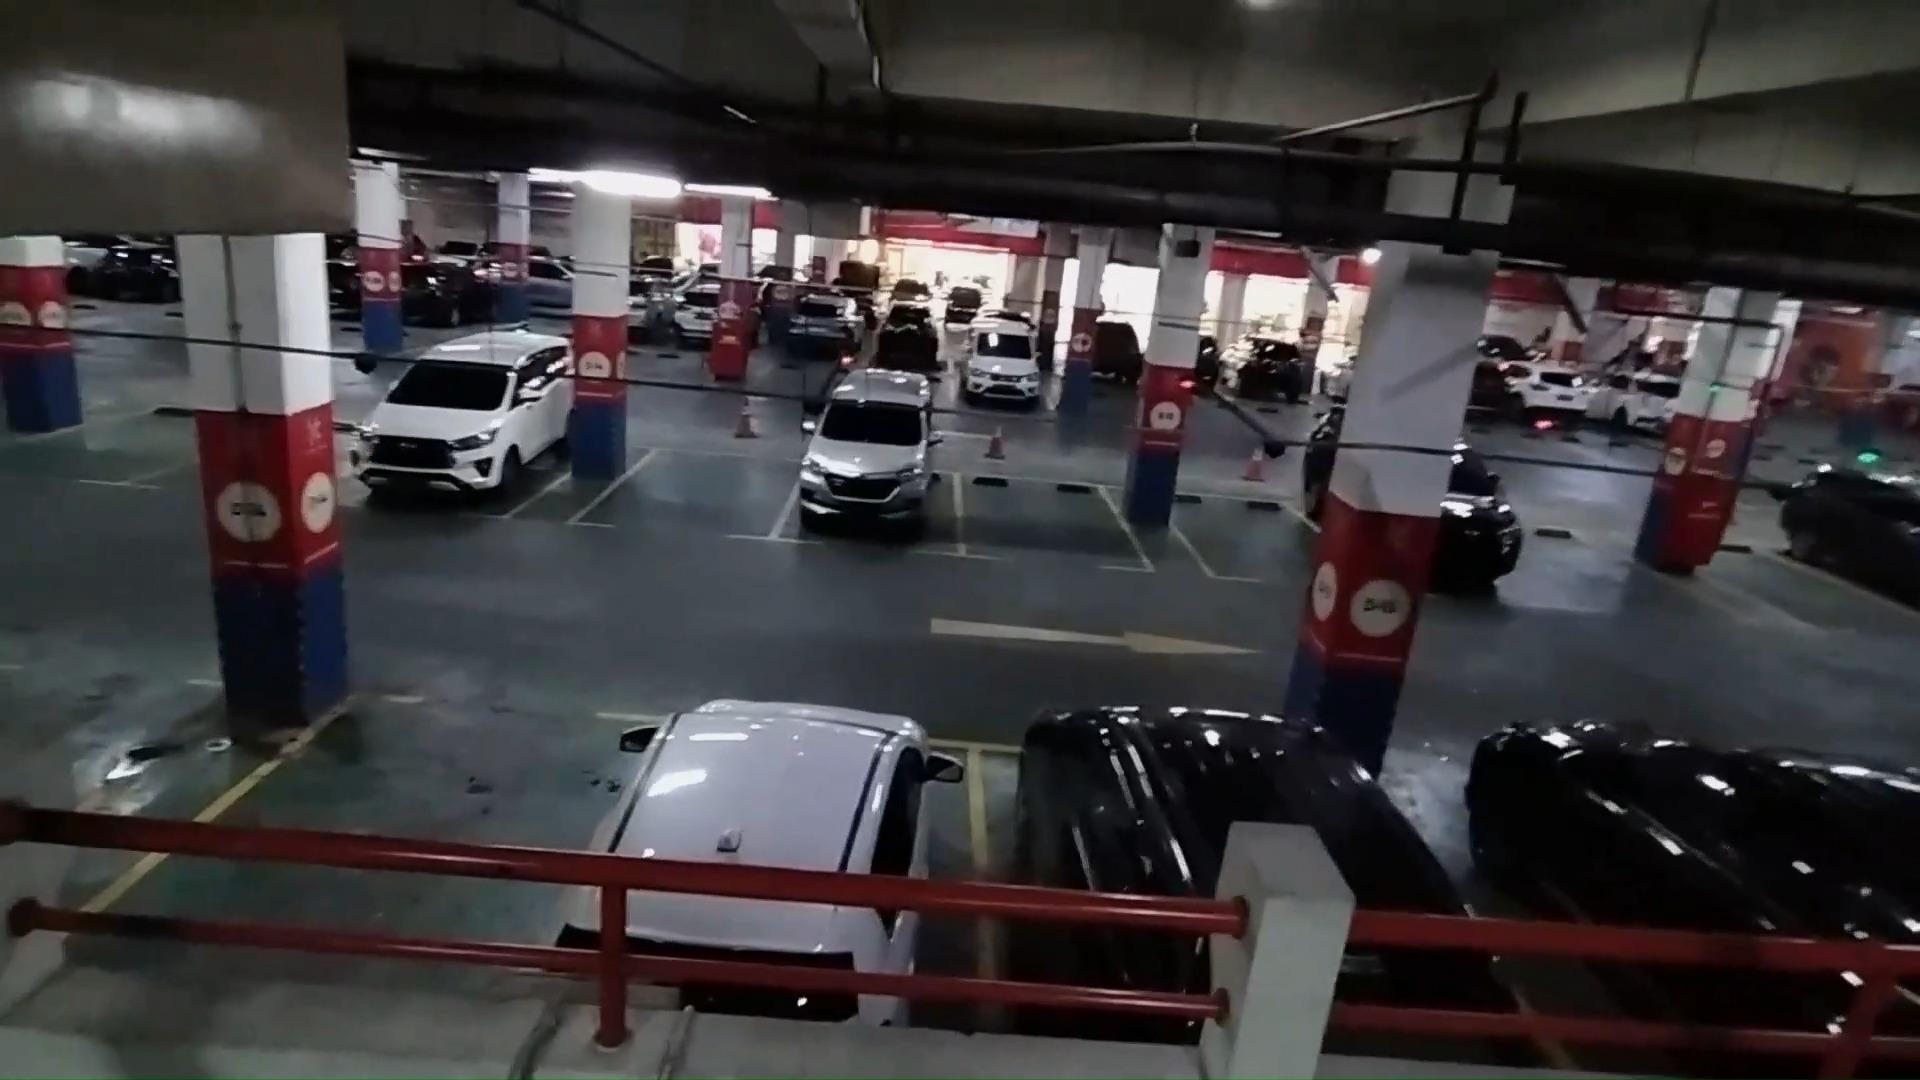empty: (185, 695, 587, 971), (586, 444, 788, 542), (953, 472, 1140, 568), (1168, 490, 1315, 582)
occupied: (593, 702, 983, 987), (357, 337, 566, 524), (776, 429, 962, 557)
